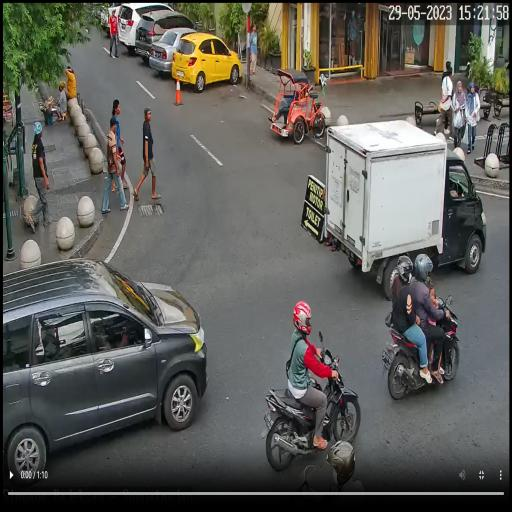mobil: (2, 239, 208, 476), (323, 117, 484, 285), (172, 32, 241, 92), (135, 11, 198, 67), (118, 3, 178, 54), (150, 26, 196, 76)
motor: (262, 330, 363, 472), (384, 293, 460, 397)
